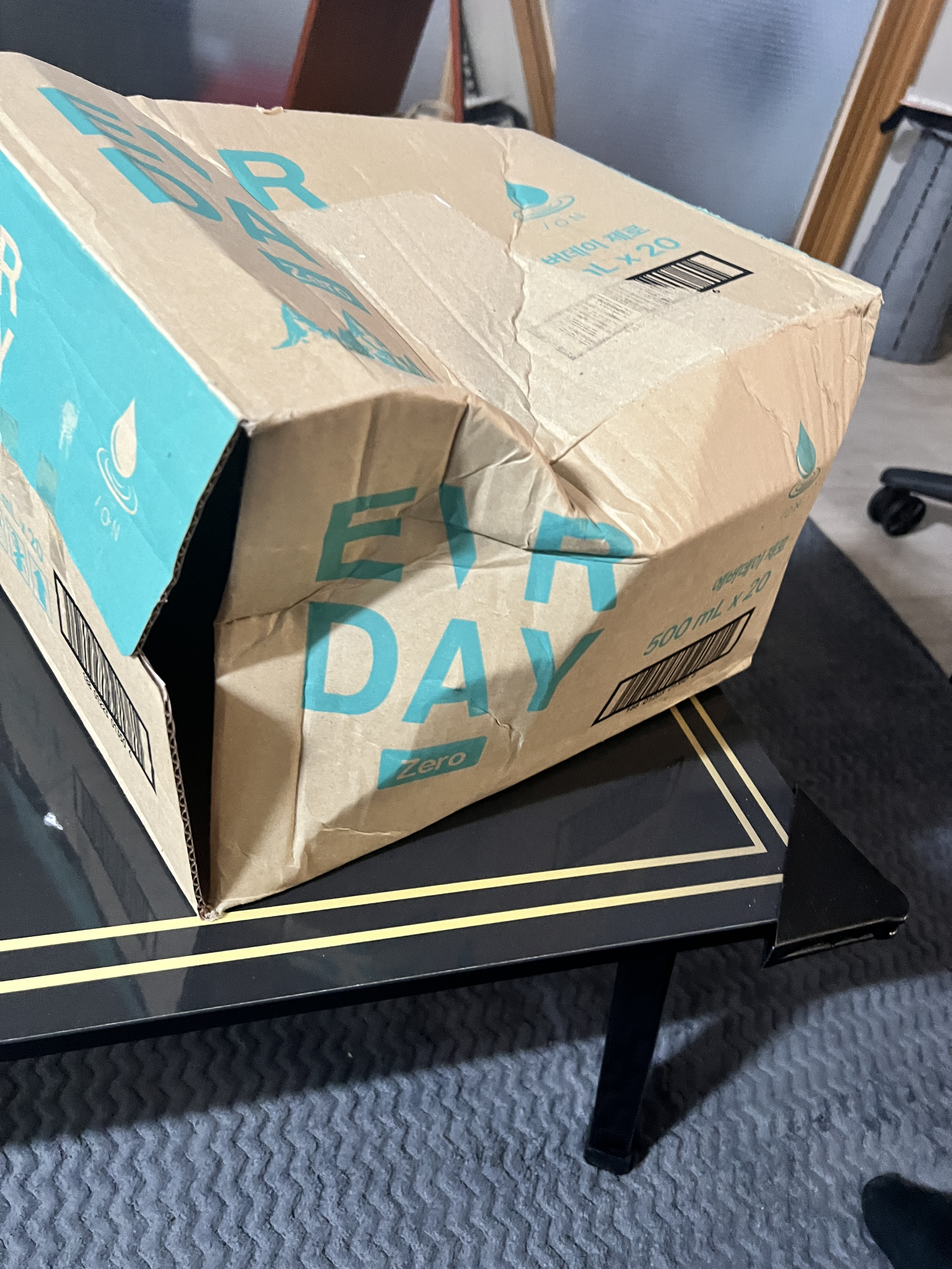damaged package: (125, 369, 662, 911), (274, 192, 803, 467)
